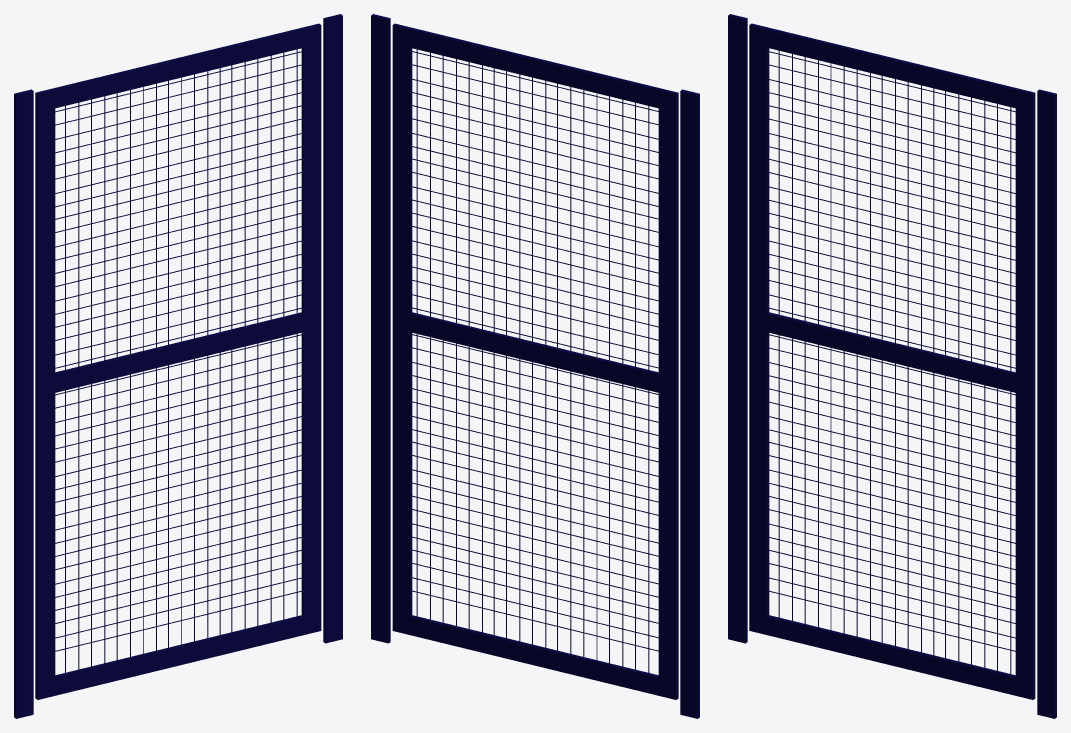
File: PortaFechada.obj
3 renders of one model, left to right at view 1: azimuth 30°, elevation 25°; view 2: azimuth 150°, elevation 25°; view 3: azimuth 330°, elevation 25°, orthographic.
Parts seen in each view (by area): view 1: Mesh.000_Cube.037_Cube.001, Mesh.1569_Cube.037_Cube.000, Mesh.1577_Cube.031_Cube.003, Mesh.1576_Cube.031_Cube.002, Mesh.1578_Cube.030_Cube.006, Mesh.1574_Cube.030_Cube.004, Mesh.1575_Cube.030_Cube.005, Mesh.019_Mesh.780_Mesh.054.017, Mesh.008_Mesh.780_Mesh.054.006, Mesh.003_Mesh.780_Mesh.054.024, Mesh.016_Mesh.780_Mesh.054.014, Mesh.022_Mesh.780_Mesh.054.020 (+14 smaller); view 2: Mesh.000_Cube.037_Cube.001, Mesh.1569_Cube.037_Cube.000, Mesh.1576_Cube.031_Cube.002, Mesh.1577_Cube.031_Cube.003, Mesh.1578_Cube.030_Cube.006, Mesh.1575_Cube.030_Cube.005, Mesh.1574_Cube.030_Cube.004, Mesh.023_Mesh.780_Mesh.054.021, Mesh.004_Mesh.780_Mesh.054.025, Mesh.020_Mesh.780_Mesh.054.018, Mesh.021_Mesh.780_Mesh.054.019, Mesh.014_Mesh.780_Mesh.054.012 (+14 smaller); view 3: Mesh.000_Cube.037_Cube.001, Mesh.1569_Cube.037_Cube.000, Mesh.1577_Cube.031_Cube.003, Mesh.1576_Cube.031_Cube.002, Mesh.1578_Cube.030_Cube.006, Mesh.1574_Cube.030_Cube.004, Mesh.1575_Cube.030_Cube.005, Mesh.012_Mesh.780_Mesh.054.010, Mesh.007_Mesh.780_Mesh.054.005, Mesh.015_Mesh.780_Mesh.054.013, Mesh.018_Mesh.780_Mesh.054.016, Mesh.014_Mesh.780_Mesh.054.012 (+14 smaller).
Boxes of the visible parts, left/top/right/bottom form: Mesh.000_Cube.037_Cube.001: left=323, top=14, right=342, bottom=643; Mesh.1569_Cube.037_Cube.000: left=14, top=89, right=33, bottom=718; Mesh.1577_Cube.031_Cube.003: left=35, top=108, right=55, bottom=695; Mesh.1576_Cube.031_Cube.002: left=301, top=43, right=321, bottom=629; Mesh.1578_Cube.030_Cube.006: left=35, top=23, right=321, bottom=112; Mesh.1574_Cube.030_Cube.004: left=37, top=309, right=321, bottom=396; Mesh.1575_Cube.030_Cube.005: left=35, top=612, right=321, bottom=699; Mesh.019_Mesh.780_Mesh.054.017: left=231, top=65, right=232, bottom=633; Mesh.008_Mesh.780_Mesh.054.006: left=104, top=96, right=105, bottom=664; Mesh.003_Mesh.780_Mesh.054.024: left=283, top=52, right=284, bottom=620; Mesh.016_Mesh.780_Mesh.054.014: left=207, top=71, right=208, bottom=639; Mesh.022_Mesh.780_Mesh.054.020: left=257, top=59, right=258, bottom=626; Mesh.000_Cube.037_Cube.001: left=371, top=14, right=390, bottom=643; Mesh.1569_Cube.037_Cube.000: left=680, top=89, right=699, bottom=718; Mesh.1576_Cube.031_Cube.002: left=392, top=43, right=412, bottom=630; Mesh.1577_Cube.031_Cube.003: left=658, top=108, right=678, bottom=695; Mesh.1578_Cube.030_Cube.006: left=392, top=23, right=678, bottom=112; Mesh.1575_Cube.030_Cube.005: left=392, top=615, right=678, bottom=699; Mesh.1574_Cube.030_Cube.004: left=410, top=312, right=676, bottom=396; Mesh.023_Mesh.780_Mesh.054.021: left=493, top=68, right=494, bottom=636; Mesh.004_Mesh.780_Mesh.054.025: left=416, top=49, right=417, bottom=617; Mesh.020_Mesh.780_Mesh.054.018: left=468, top=62, right=469, bottom=629; Mesh.021_Mesh.780_Mesh.054.019: left=442, top=56, right=443, bottom=623; Mesh.014_Mesh.780_Mesh.054.012: left=570, top=87, right=571, bottom=654; Mesh.000_Cube.037_Cube.001: left=1037, top=89, right=1056, bottom=718; Mesh.1569_Cube.037_Cube.000: left=728, top=14, right=747, bottom=643; Mesh.1577_Cube.031_Cube.003: left=749, top=43, right=769, bottom=630; Mesh.1576_Cube.031_Cube.002: left=1015, top=108, right=1035, bottom=695; Mesh.1578_Cube.030_Cube.006: left=749, top=23, right=1035, bottom=112; Mesh.1574_Cube.030_Cube.004: left=749, top=310, right=1035, bottom=396; Mesh.1575_Cube.030_Cube.005: left=749, top=615, right=1035, bottom=699; Mesh.012_Mesh.780_Mesh.054.010: left=843, top=66, right=844, bottom=634; Mesh.007_Mesh.780_Mesh.054.005: left=804, top=57, right=805, bottom=625; Mesh.015_Mesh.780_Mesh.054.013: left=907, top=82, right=908, bottom=650; Mesh.018_Mesh.780_Mesh.054.016: left=881, top=76, right=882, bottom=643; Mesh.014_Mesh.780_Mesh.054.012: left=856, top=69, right=857, bottom=637.
Bounding box in the file's own units: 2.54 × 4.63 × 0.0298.
